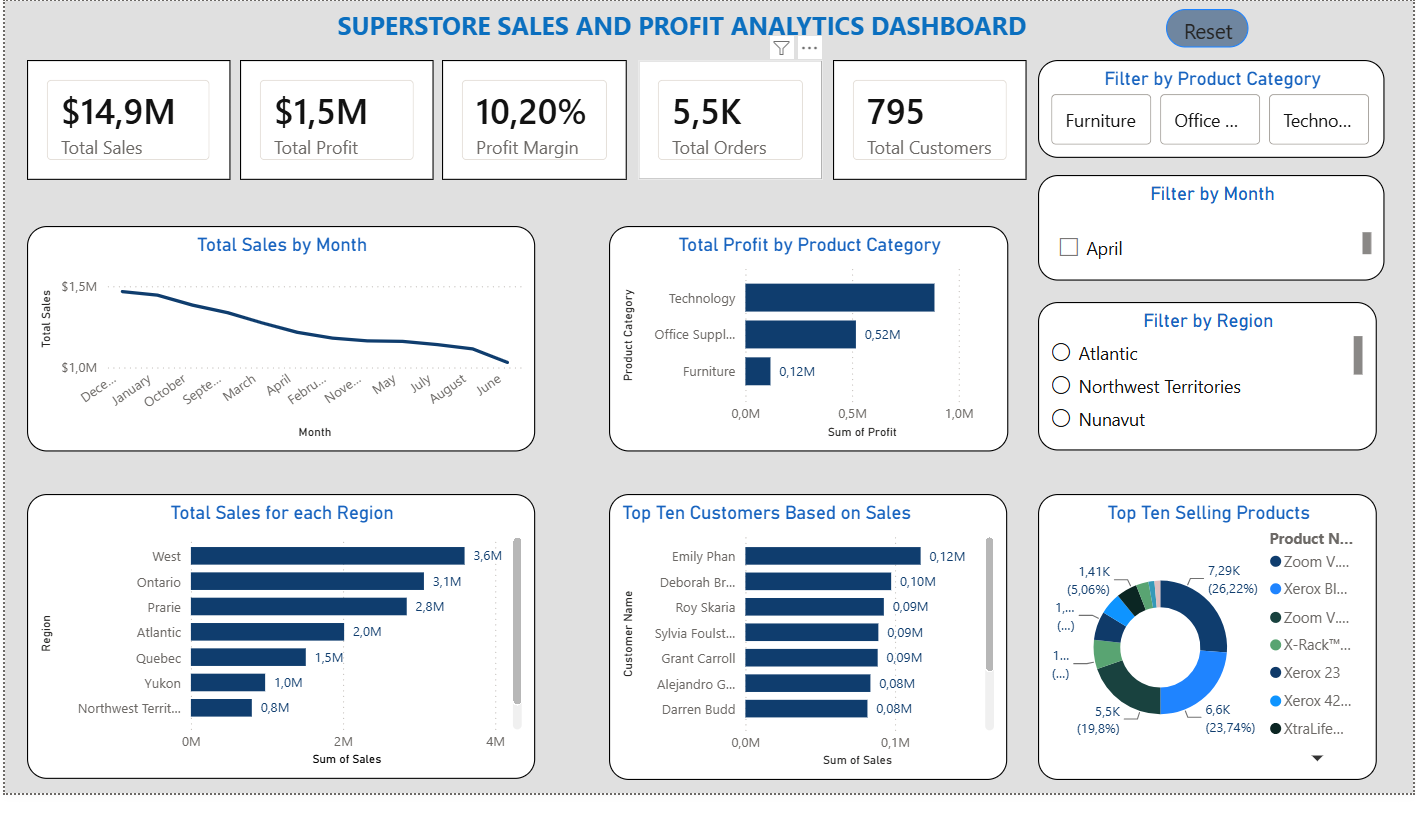

The dashboard page shown, as its layout file describes it:
{"tool":"powerbi","page":{"name":"Page 1","canvas":[1280,720],"ordinal":0},"visuals":[{"type":"cardVisual","fields":{"Data":["superstore_cleaned.Total Sales"]},"box":[20,53.6,184.5,109.1],"z":0},{"type":"cardVisual","fields":{"Data":["superstore_cleaned.Total Profit"]},"box":[213.6,53.6,176.4,109.1],"z":1000},{"type":"cardVisual","fields":{"Data":["superstore_cleaned.Total Customers"]},"box":[752.7,53.6,176.4,109.1],"z":2000},{"type":"cardVisual","fields":{"Data":["superstore_cleaned.Total Orders"]},"box":[575.5,53.6,168.2,109.1],"z":3000},{"type":"cardVisual","fields":{"Data":["superstore_cleaned.Profit Marg"]},"box":[397.3,53.6,168.2,109.1],"z":4000},{"type":"lineChart","fields":{"Category":["superstore_cleaned.Month"],"Y":["superstore_cleaned.Total Sales"]},"box":[20.4,204.6,461.6,204.6],"z":5000},{"type":"clusteredBarChart","title":"Total Sales for each Region","fields":{"Category":["superstore_cleaned.Region"],"Y":["Sum(superstore_cleaned.Sales)"]},"box":[19.8,448.1,461.7,259],"z":6000},{"type":"clusteredBarChart","title":"Total Profit by Product Category","fields":{"Category":["superstore_cleaned.Product Category"],"Y":["Sum(superstore_cleaned.Profit)"]},"box":[548.8,204.6,362.7,204.6],"z":7000},{"type":"barChart","title":"Top Ten Customers Based on Sales","fields":{"Category":["superstore_cleaned.Customer Name"],"Y":["Sum(superstore_cleaned.Sales)"]},"box":[548.8,448,362,259.9],"z":8000},{"type":"slicer","title":"Filter by Month","fields":{"Values":["superstore_cleaned.Month"]},"box":[939.2,158.2,315.2,96.2],"z":9000},{"type":"textbox","title":"SUPERSTORE SALES AND PROFIT ANALYTICS DASHBOARD","box":[297.3,7.3,651.8,34.5],"z":10000},{"type":"advancedSlicerVisual","title":"Filter by Product Category","fields":{"Values":["superstore_cleaned.Product Category"]},"box":[939.1,53.6,315.5,89.1],"z":11000},{"type":"listSlicer","title":"Filter by Region","fields":{"Values":["superstore_cleaned.Region"]},"box":[939.2,273.4,307.6,135.4],"z":12000},{"type":"donutChart","title":"Top Ten Selling Products","fields":{"Category":["superstore_cleaned.Product Name"],"Y":["Sum(superstore_cleaned.Sales)"]},"box":[938.7,448,308.4,259.9],"z":14000},{"type":"actionButton","title":"Reset","box":[1055.5,7.3,74.5,34.5],"z":14001}]}

Visuals, with their boxes in screenshot pixels (x1, y1, x2, y2):
cardVisual - superstore_cleaned.Total Sales: {"x1": 29, "y1": 58, "x2": 230, "y2": 177}
cardVisual - superstore_cleaned.Total Profit: {"x1": 240, "y1": 58, "x2": 433, "y2": 177}
cardVisual - superstore_cleaned.Total Customers: {"x1": 829, "y1": 58, "x2": 1021, "y2": 177}
cardVisual - superstore_cleaned.Total Orders: {"x1": 635, "y1": 58, "x2": 819, "y2": 177}
cardVisual - superstore_cleaned.Profit Marg: {"x1": 441, "y1": 58, "x2": 624, "y2": 177}
lineChart - superstore_cleaned.Month x superstore_cleaned.Total Sales: {"x1": 30, "y1": 223, "x2": 533, "y2": 446}
"Total Sales for each Region" clusteredBarChart: {"x1": 29, "y1": 489, "x2": 533, "y2": 771}
"Total Profit by Product Category" clusteredBarChart: {"x1": 606, "y1": 223, "x2": 1002, "y2": 446}
"Top Ten Customers Based on Sales" barChart: {"x1": 606, "y1": 489, "x2": 1001, "y2": 772}
"Filter by Month" slicer: {"x1": 1032, "y1": 173, "x2": 1376, "y2": 278}
"SUPERSTORE SALES AND PROFIT ANALYTICS DASHBOARD" textbox: {"x1": 332, "y1": 8, "x2": 1043, "y2": 46}
"Filter by Product Category" advancedSlicerVisual: {"x1": 1032, "y1": 58, "x2": 1376, "y2": 156}
"Filter by Region" listSlicer: {"x1": 1032, "y1": 298, "x2": 1368, "y2": 446}
"Top Ten Selling Products" donutChart: {"x1": 1031, "y1": 489, "x2": 1368, "y2": 772}
"Reset" actionButton: {"x1": 1159, "y1": 8, "x2": 1240, "y2": 46}
